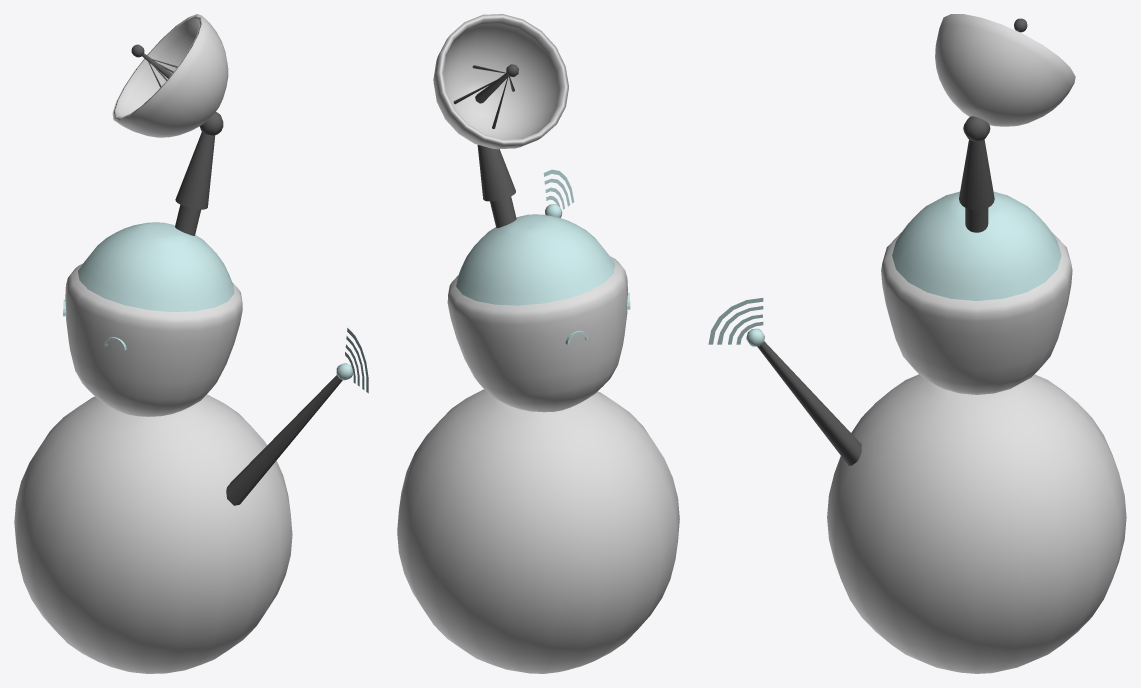
Rendered from SatBot.fbx.
3 renders of one model, left to right at view 1: azimuth 30°, elevation 25°; view 2: azimuth 150°, elevation 25°; view 3: azimuth 270°, elevation 25°, orthographic. The views are drawn at different scales.
Visible parts, largest first — view 1: pSphere1, polySurface12, polySurface11, polySurface1, polySurface13, polySurface5, polySurface6; view 2: pSphere1, polySurface12, polySurface1, polySurface11, polySurface5, polySurface6; view 3: pSphere1, polySurface12, polySurface11, polySurface1, polySurface13, polySurface5.
Boxes of the visible parts, <box> form: pSphere1: <box>14,394,292,673</box>; polySurface12: <box>65,263,242,416</box>; polySurface11: <box>78,222,234,311</box>; polySurface1: <box>112,14,228,137</box>; polySurface13: <box>226,375,342,505</box>; polySurface5: <box>175,132,215,209</box>; polySurface6: <box>175,205,200,235</box>; pSphere1: <box>397,389,679,673</box>; polySurface12: <box>447,256,627,412</box>; polySurface1: <box>433,14,568,149</box>; polySurface11: <box>456,214,615,305</box>; polySurface5: <box>477,145,515,201</box>; polySurface6: <box>490,196,516,228</box>; pSphere1: <box>827,374,1126,673</box>; polySurface12: <box>881,232,1072,394</box>; polySurface11: <box>892,191,1061,300</box>; polySurface1: <box>935,14,1075,126</box>; polySurface13: <box>757,341,861,465</box>; polySurface5: <box>959,139,994,210</box>.
Bounding box in the file's own units: 1.88 × 4.64 × 2.62.
